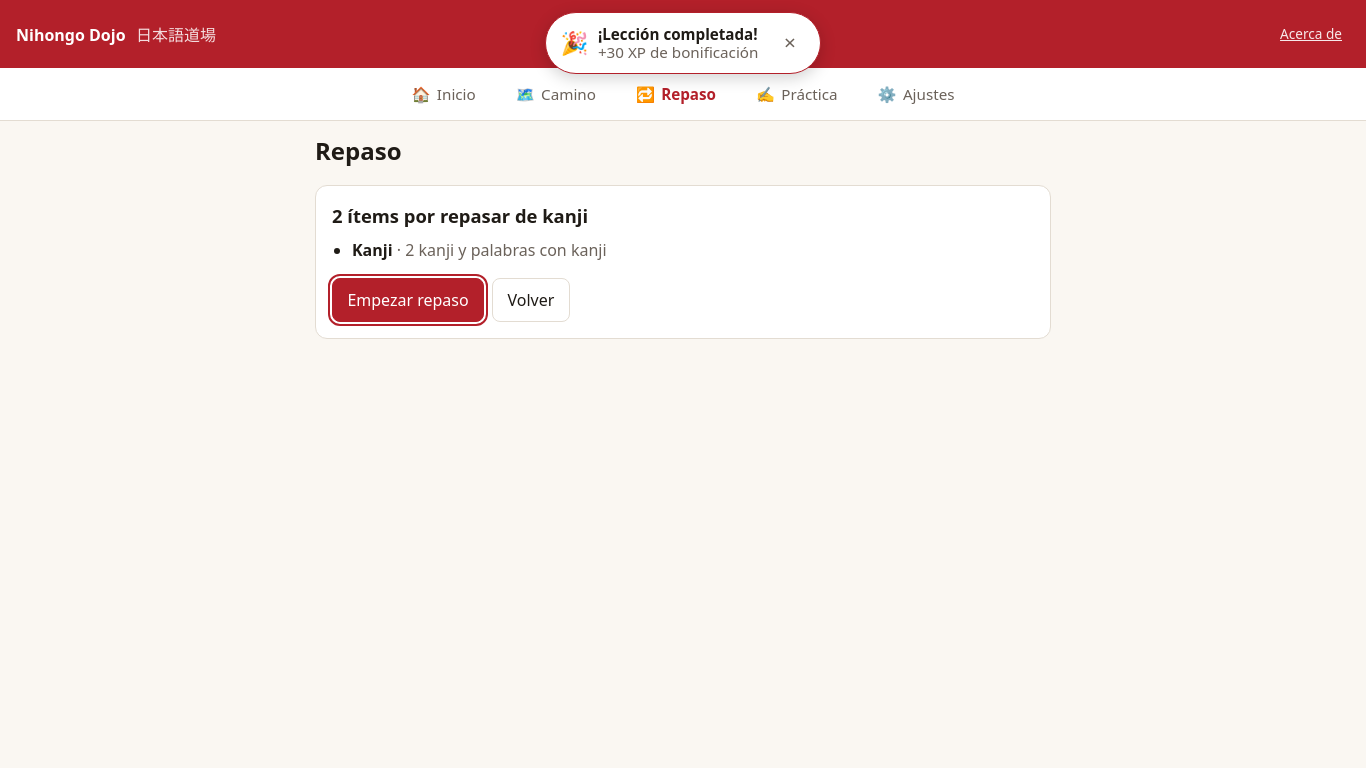
Test case: Práctica: kanji review and free practice › the unified /repaso session runs the kanji review with the kanji game
The image size is (1366, 768).
Expected: the heading "2 ítems por repasar de kanji" is shown, 332,203 -> 588,228
Click the button "Empezar repaso": coordinates (408, 300) 332,278 -> 484,322
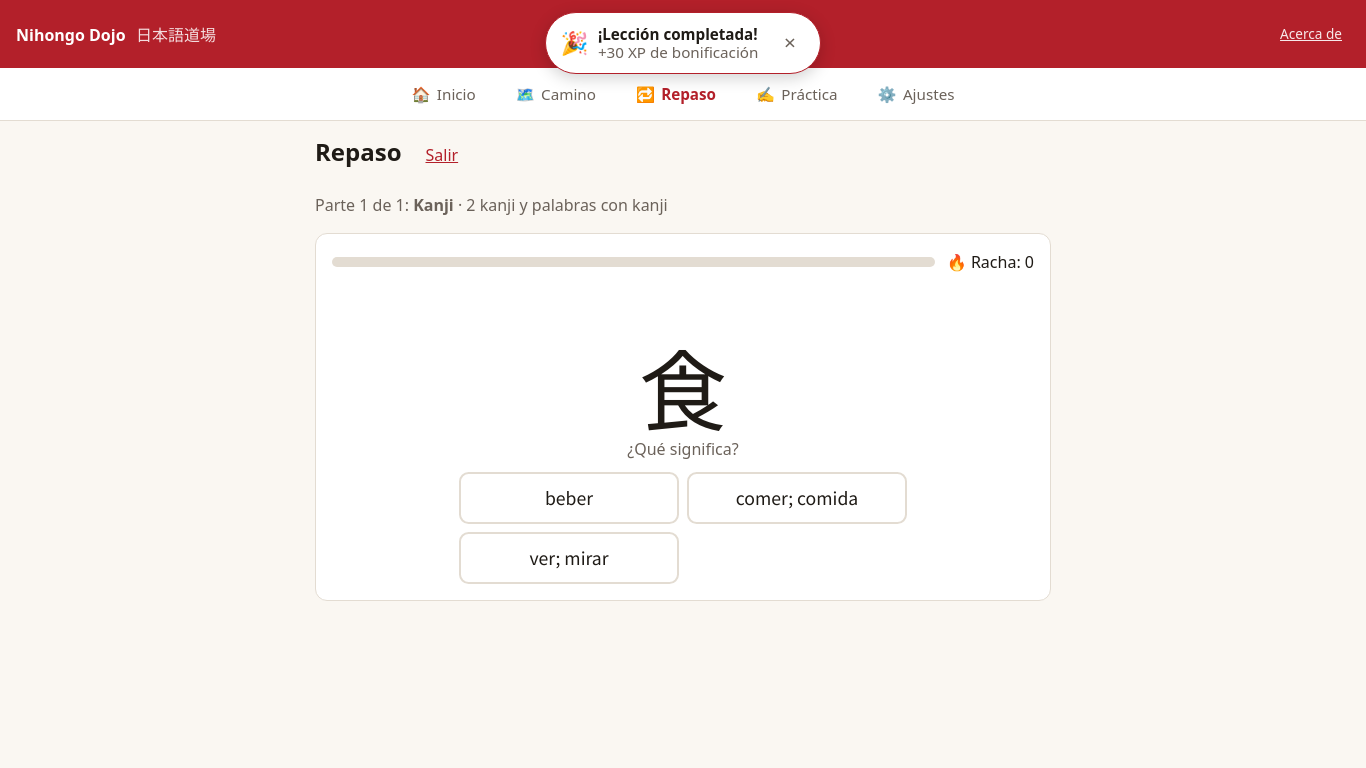
Expected: the element with test id "review-step" shows "Kanji", 413,194 -> 454,216
Expected: the element with test id "prompt" shows "食", 639,322 -> 727,449
